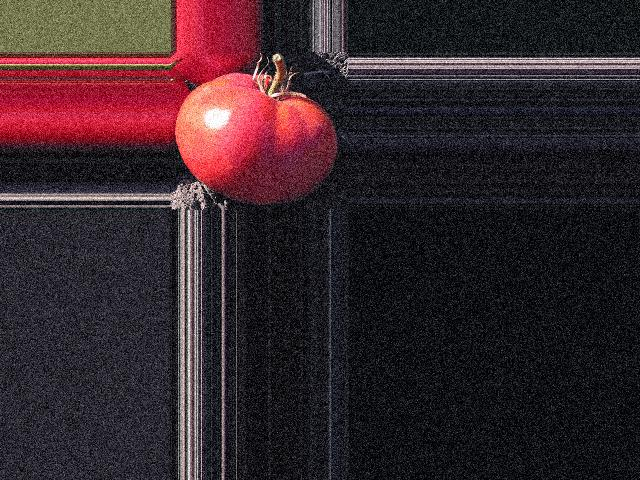tomato: (175, 74, 337, 205)
